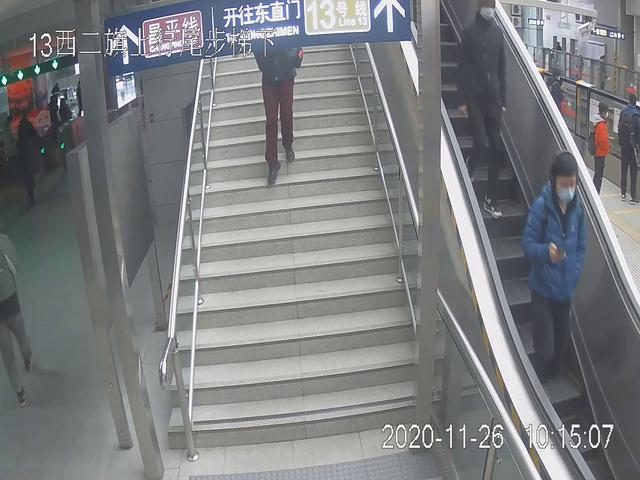person: (521, 149, 592, 398), (455, 1, 515, 226), (249, 33, 308, 194)
